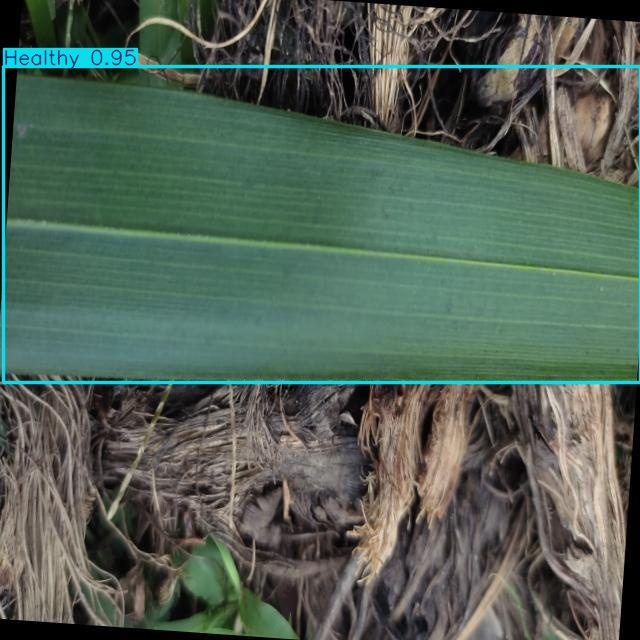Healthy: (4, 66, 640, 383)
